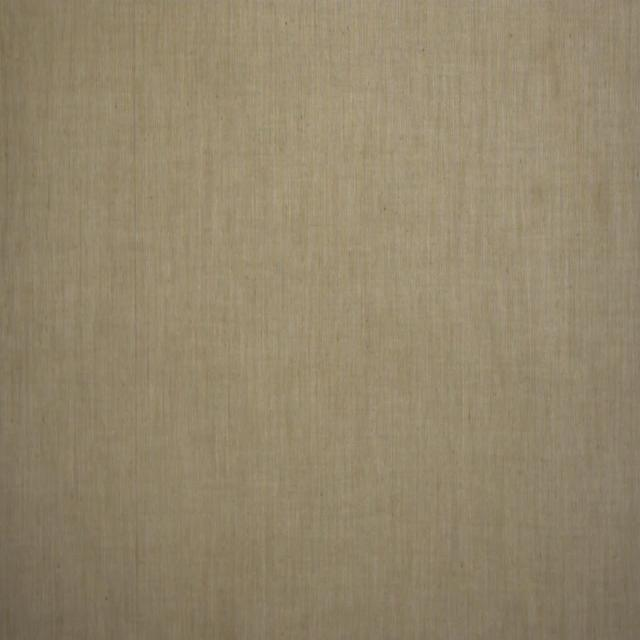dirty: (592, 177, 608, 217)
